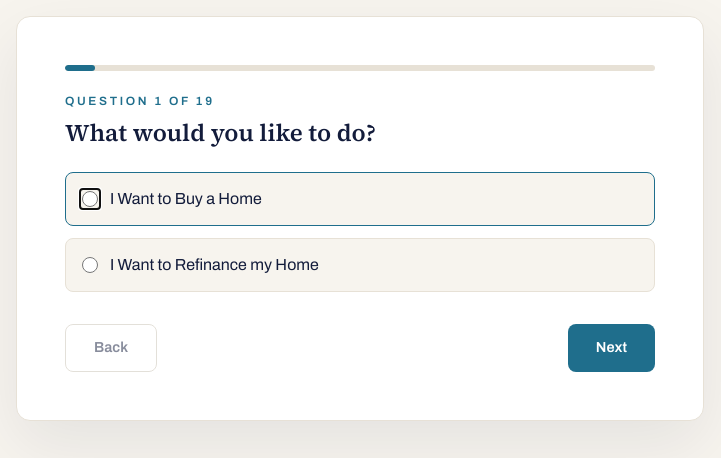
Test: AssessmentQuizClient navigation › changes the selection with arrow keys without advancing, then Next moves on
Press Arrowdown
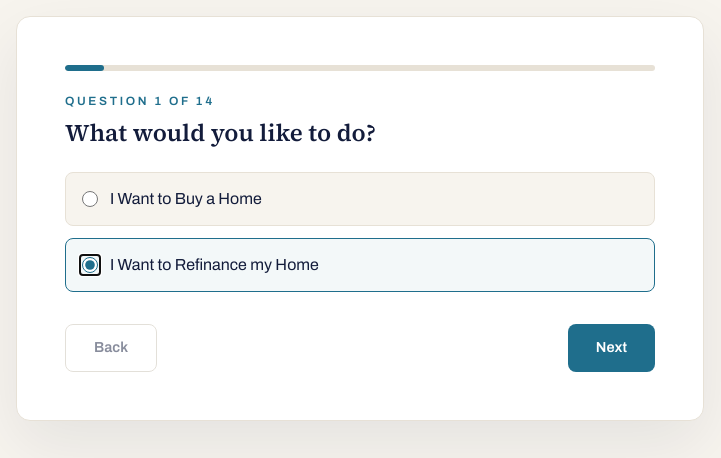
Check: the heading "What would you like to do?" is shown, box 65,116 -> 376,149
Check: the radio button labelled "I Want to Refinance my Home" is checked, box 82,257 -> 98,273
Click the button "Next" at (611, 348), box 568,324 -> 655,372
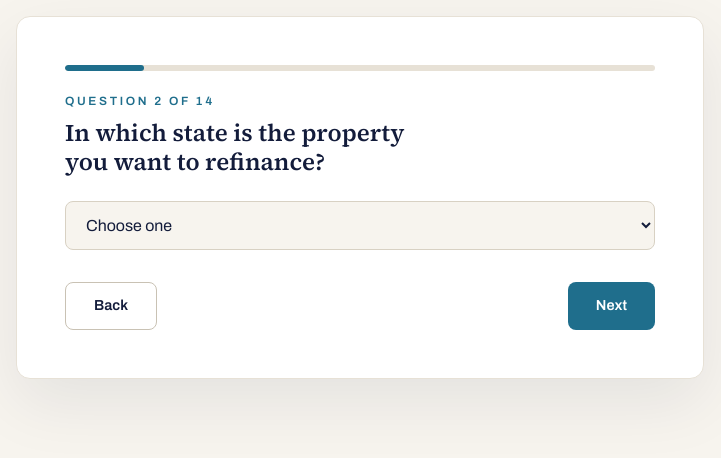
Check: the heading "In which state is the property you want to refinance?" is shown, box 65,116 -> 404,178
Check: the text "Question 2 of 14" is shown, box 65,94 -> 215,108
